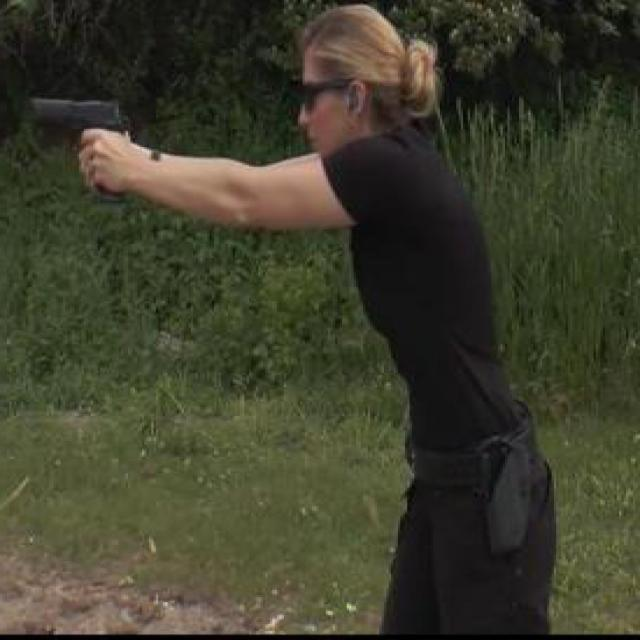weapon: (24, 92, 130, 202)
